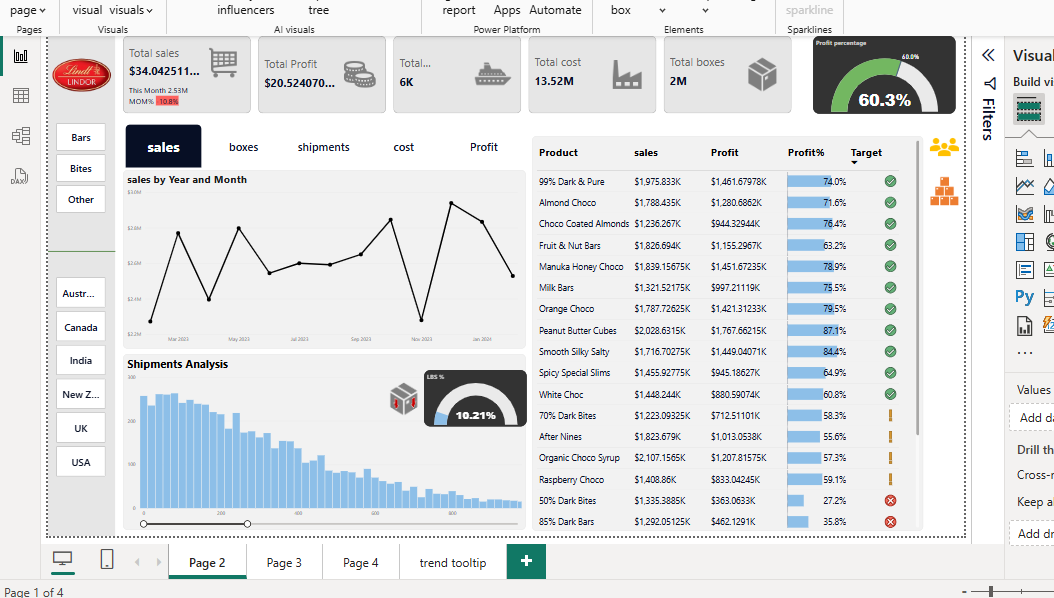

The dashboard page shown, as its layout file describes it:
{"tool":"powerbi","page":{"name":"Page 2","canvas":[1980,1080],"ordinal":0},"visuals":[{"type":"shape","box":[0,0,145,1080],"z":0},{"type":"cardVisual","fields":{"Data":["_measues.Total sales","_measues.Total Profit","_measues.Total shipments","_measues.Total cost","_measues.Total boxes"]},"box":[162.9,0,1447.1,167.1],"z":1000},{"type":"gauge","fields":{"Y":["_measues.Profit percentage"]},"box":[1652.5,0,307.5,167.5],"z":2000},{"type":"lineChart","fields":{"Y":["_measues.Total sales"],"Category":["calendar.Start of Month.Variation.Date Hierarchy.Year","calendar.Start of Month.Variation.Date Hierarchy.Month"]},"box":[162.9,290,870,385.7],"z":4000},{"type":"advancedSlicerVisual","fields":{"Values":["Mesure Selector .Mesure Selector "]},"box":[162.9,185.7,870,104.3],"z":5000},{"type":"columnChart","title":"Shipments Analysis","fields":{"Category":["shipments.Boxes (bins)"],"Y":["_measues.Total shipments"]},"box":[162.5,687.5,870,380],"z":6000},{"type":"gauge","fields":{"Y":["_measues.LBS %"]},"box":[812,722,222,122],"z":7000},{"type":"image","box":[708,736,120,94],"z":8000},{"type":"tableEx","title":"product table","fields":{"Values":["products.Product","_measues.Total sales","_measues.Total Profit","_measues.Profit percentage","_measues.Profit Target Indicator"]},"box":[1045,215,845,852.5],"z":10000},{"type":"image","title":"people icon","box":[1892,198,88,82],"z":11000},{"type":"image","title":"product icon","box":[1892,280,88,108],"z":12000},{"type":"advancedSlicerVisual","fields":{"Values":["products.Category"]},"box":[13.3,183.3,116.7,205],"z":13000},{"type":"advancedSlicerVisual","fields":{"Values":["locations.Geo"]},"box":[14,516,116,440],"z":14000},{"type":"shape","box":[0,316,146,300],"z":15000},{"type":"image","box":[0,0,146.9,168.5],"z":15001}]}

Visuals, with their boxes on the page's 1980x1080 design canvas (x1, y1, x2, y2). These are canvas units, not pixel positions in the 1054x598 screenshot, which may show the page scaled, cropped or inside an application window:
shape: 0,0,145,1080
cardVisual - _measues.Total sales x _measues.Total Profit: 163,0,1610,167
gauge - _measues.Profit percentage: 1652,0,1960,168
lineChart - _measues.Total sales x calendar.Start of Month.Variation.Date Hierarchy.Year: 163,290,1033,676
advancedSlicerVisual - Mesure Selector .Mesure Selector : 163,186,1033,290
"Shipments Analysis" columnChart: 162,688,1032,1068
gauge - _measues.LBS %: 812,722,1034,844
image: 708,736,828,830
"product table" tableEx: 1045,215,1890,1068
"people icon" image: 1892,198,1980,280
"product icon" image: 1892,280,1980,388
advancedSlicerVisual - products.Category: 13,183,130,388
advancedSlicerVisual - locations.Geo: 14,516,130,956
shape: 0,316,146,616
image: 0,0,147,168
